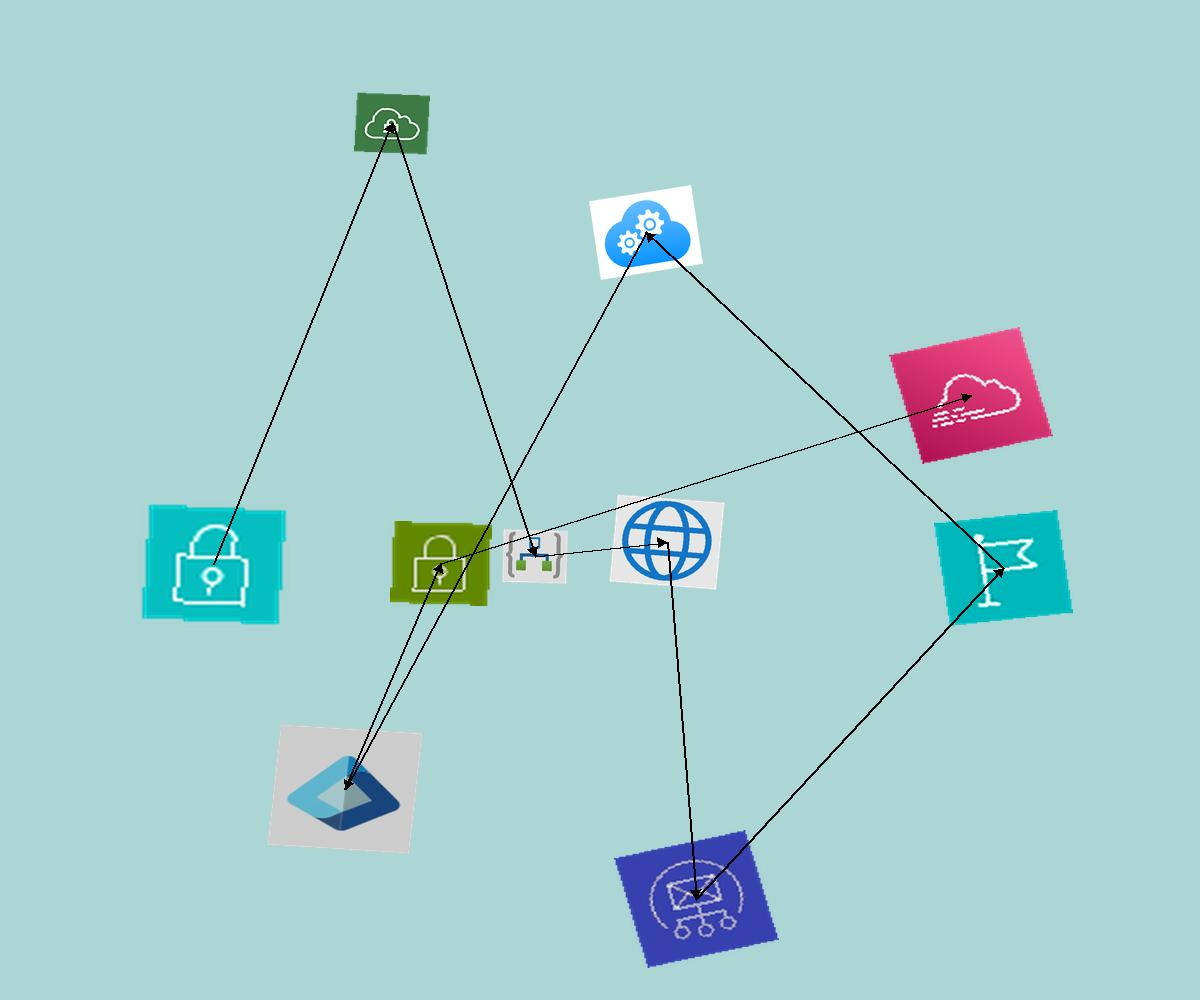AWS-CloudTrail: (889, 327, 1053, 464)
AWS-Private-subnet: (139, 502, 289, 627)
AWS-Private_vpc: (354, 92, 430, 155)
AWS-Public-subnet: (390, 521, 492, 606)
AWS-Region: (934, 510, 1073, 626)
AWS-Simple-Email-Service: (614, 830, 779, 968)
Azure_cloud_services: (589, 185, 703, 280)
Azure_http: (609, 494, 725, 590)
Azure_integration-204-Logic-Apps: (502, 529, 568, 584)
Azure_microsoft_entra: (267, 724, 423, 854)
